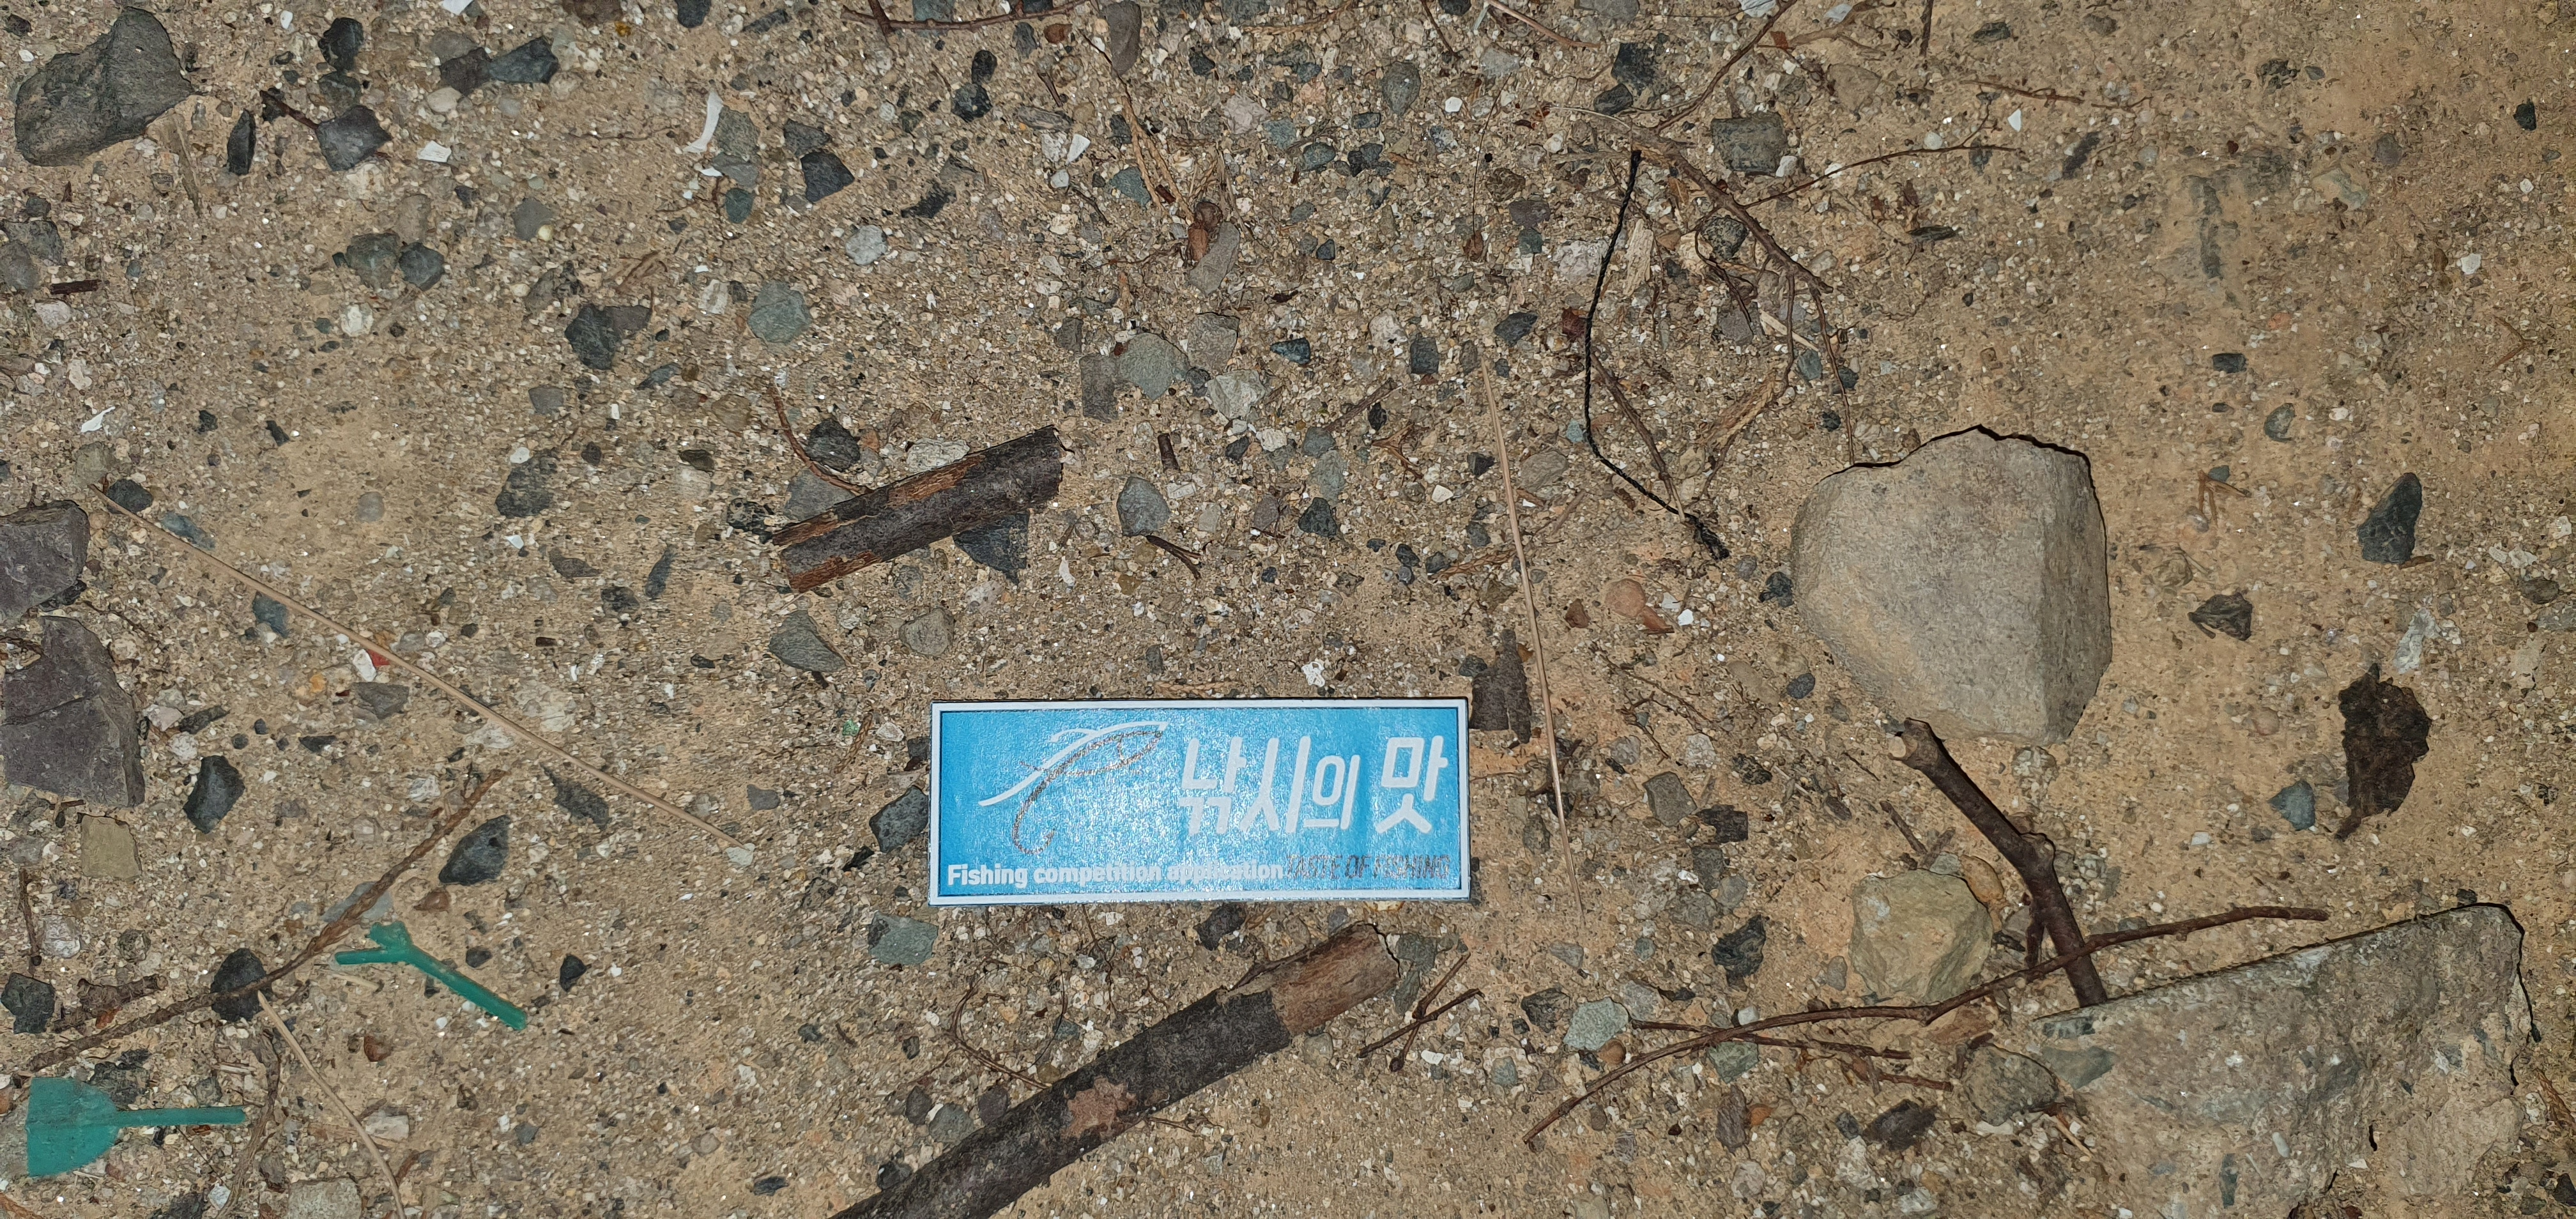tag: (935, 697, 1470, 899)
